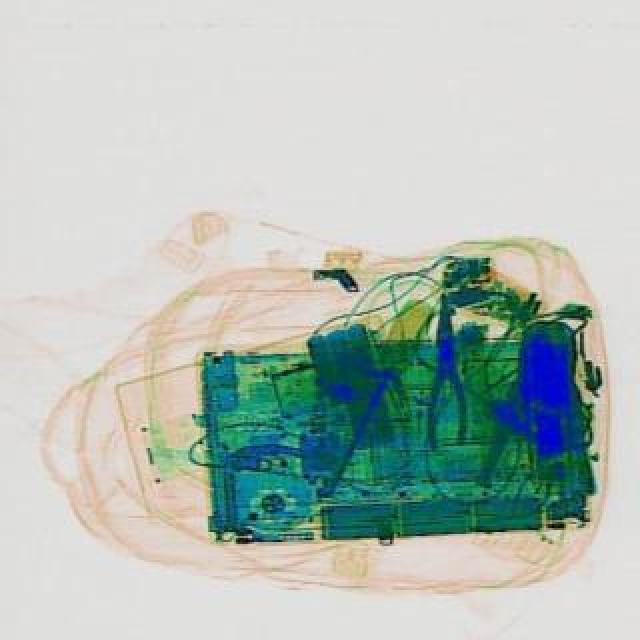wrench: (420, 290, 468, 450)
